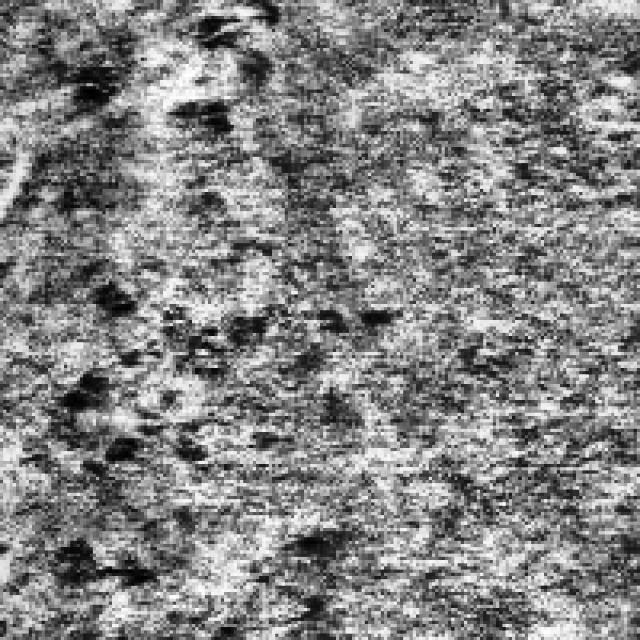Crazing: (26, 259, 260, 618), (150, 0, 278, 144)
